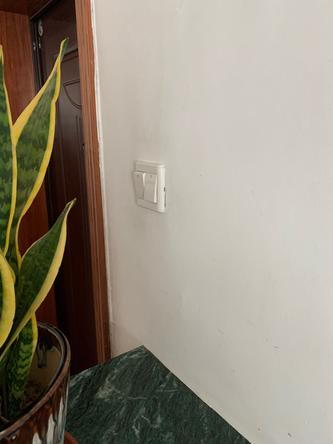switch: (145, 170, 159, 205), (132, 169, 145, 203)
